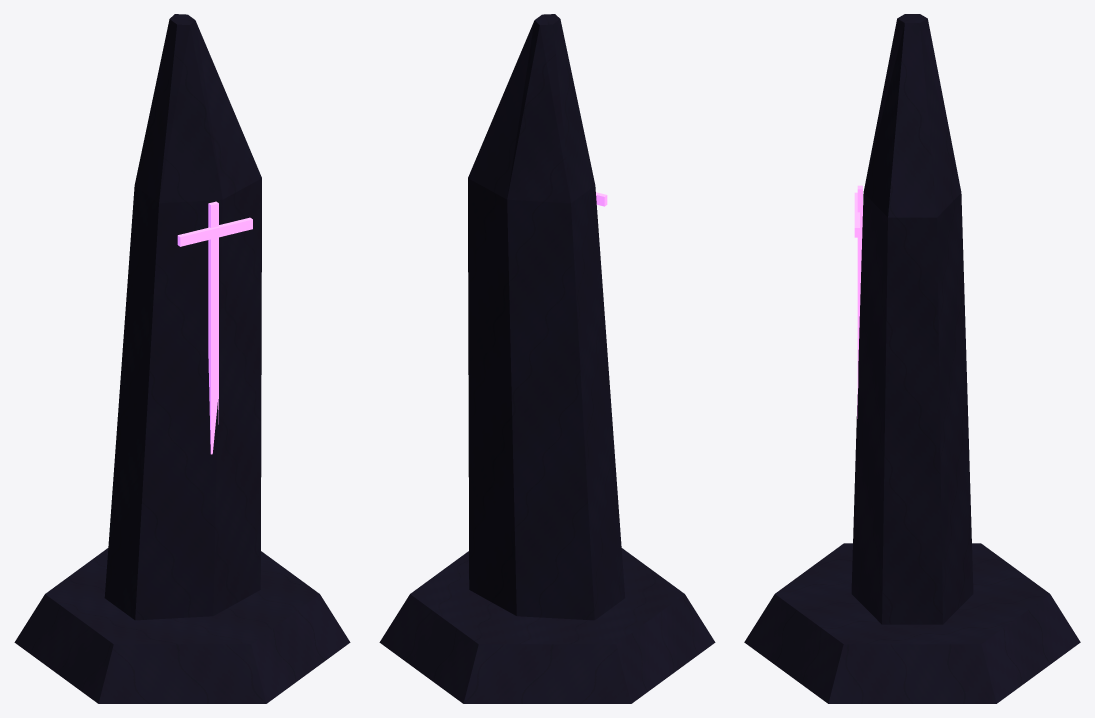
File: Ruin_ObserverMonolith.glb
3 renders of one model, left to right at view 1: azimuth 30°, elevation 25°; view 2: azimuth 150°, elevation 25°; view 3: azimuth 270°, elevation 25°, orthographic.
Visible parts, largest first — view 1: Ruin_ObserverMonolith_Shaft, Ruin_ObserverMonolith_Foot, Ruin_ObserverMonolith_Inlay; view 2: Ruin_ObserverMonolith_Shaft, Ruin_ObserverMonolith_Foot; view 3: Ruin_ObserverMonolith_Shaft, Ruin_ObserverMonolith_Foot, Ruin_ObserverMonolith_Inlay.
Boxes of the visible parts, left/top/right/bottom form: Ruin_ObserverMonolith_Shaft: left=104, top=14, right=261, bottom=620; Ruin_ObserverMonolith_Foot: left=14, top=548, right=350, bottom=703; Ruin_ObserverMonolith_Inlay: left=177, top=201, right=252, bottom=454; Ruin_ObserverMonolith_Shaft: left=468, top=14, right=625, bottom=620; Ruin_ObserverMonolith_Foot: left=379, top=548, right=715, bottom=703; Ruin_ObserverMonolith_Shaft: left=851, top=14, right=973, bottom=624; Ruin_ObserverMonolith_Foot: left=744, top=543, right=1080, bottom=703; Ruin_ObserverMonolith_Inlay: left=854, top=185, right=862, bottom=418.
Size of the model in its own units: 1.91 by 4.5 by 2.2.
Materials: 2 (1 with a texture image).
